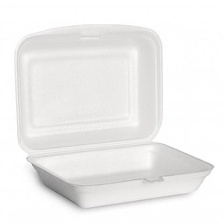foam_box: (9, 16, 217, 212)
